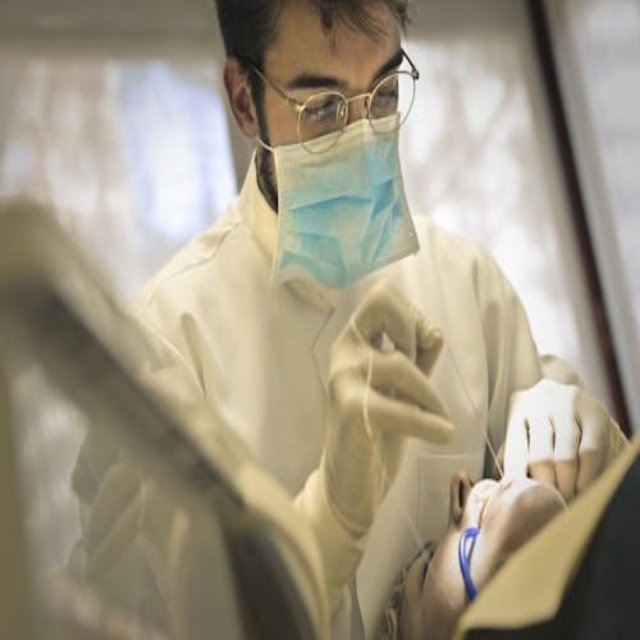Gafas: (236, 44, 424, 146)
Guantes: (303, 273, 463, 536), (493, 357, 616, 498)
Mascara: (252, 125, 430, 290)
